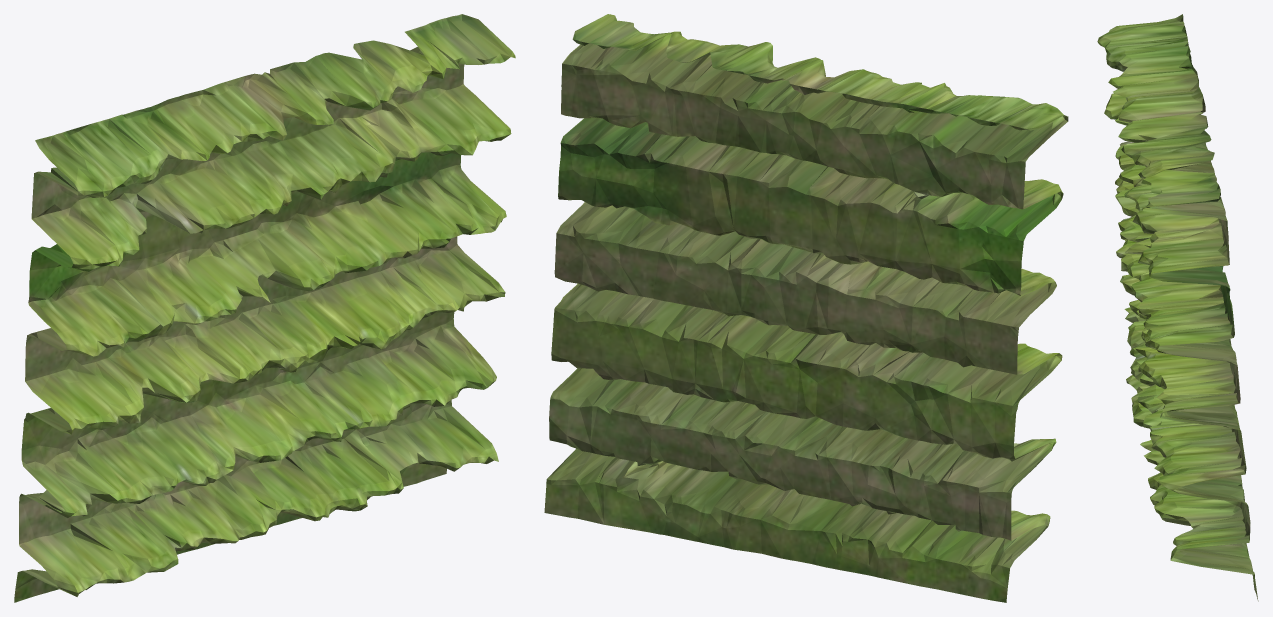
The model's file is map_20_40.obj.
3 views of the same model, side by side, from view 1: azimuth 30°, elevation 25°; view 2: azimuth 150°, elevation 25°; view 3: azimuth 270°, elevation 25° (orthographic). The views are drawn at different scales.
Parts seen in each view (by area): view 1: grp1; view 2: grp1; view 3: grp1.
Boxes of the visible parts, x1,y1,x2,y2 form: grp1: (14,14,515,602); grp1: (544,14,1068,602); grp1: (1097,14,1258,601).
Size of the model in its own units: 10 by 10 by 3.63.
1 material, 1 textured.
